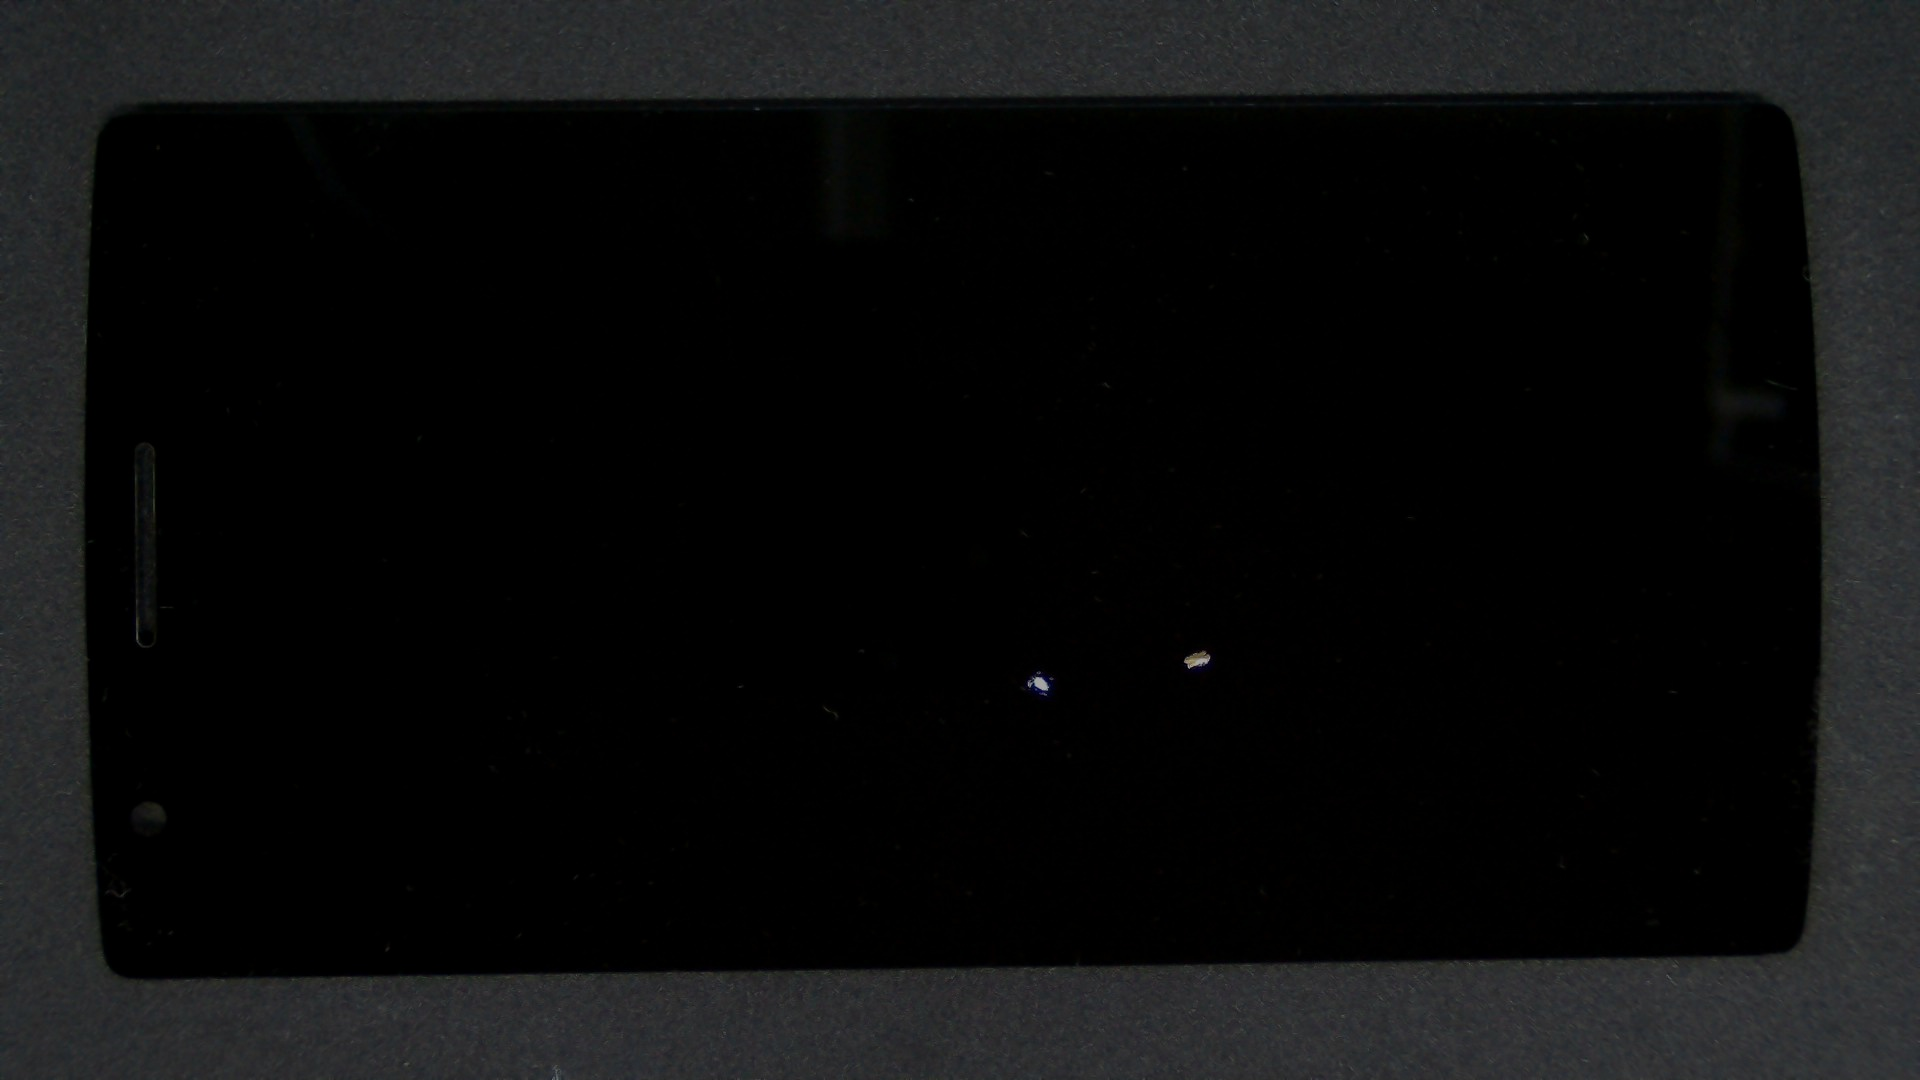oil: (601, 323, 1800, 975), (521, 335, 1560, 1006)
